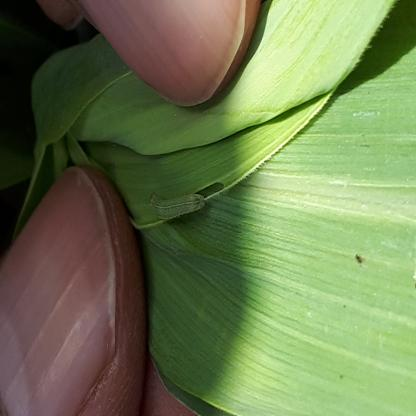armyworm: (109, 260, 130, 372)
